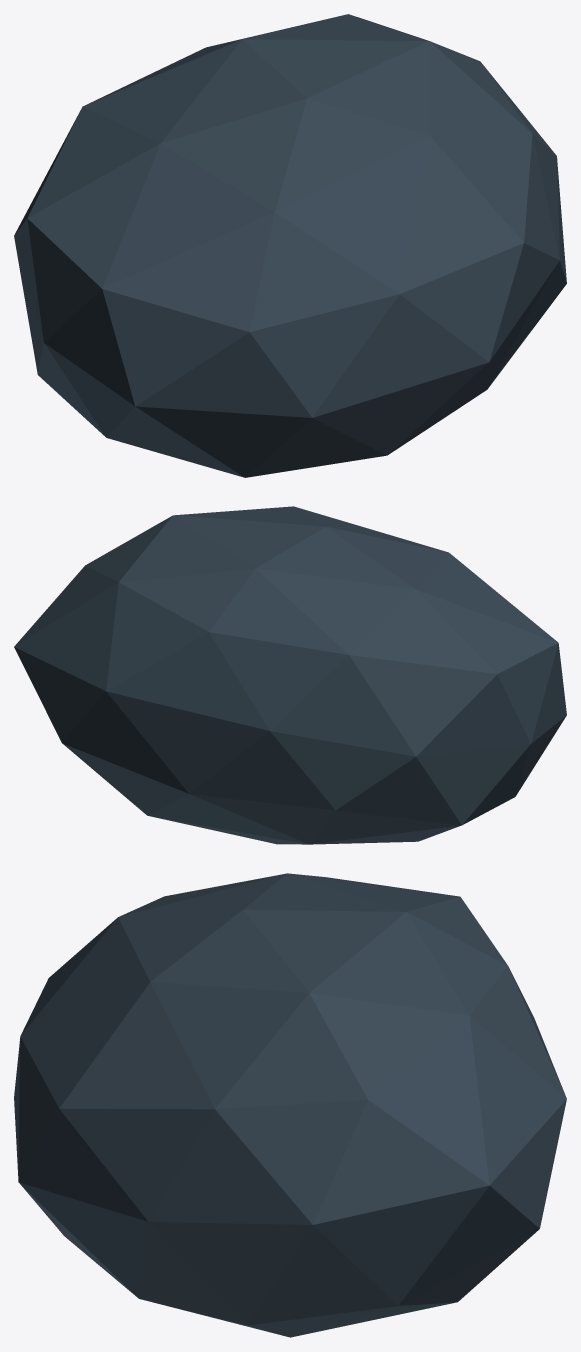
File: ENV_Stone_A.fbx
The picture shows the model from 3 angles, top to bottom: view 1: azimuth 30°, elevation 25°; view 2: azimuth 150°, elevation 25°; view 3: azimuth 270°, elevation 25°; orthographic projection. The views are drawn at different scales.
Parts seen in each view (by area): view 1: ENV_Stone_A; view 2: ENV_Stone_A; view 3: ENV_Stone_A.
Boxes of the visible parts, x1,y1,x2,y2 form: ENV_Stone_A: [14, 14, 566, 477]; ENV_Stone_A: [14, 506, 566, 844]; ENV_Stone_A: [14, 873, 566, 1337].
Bounding box in the file's own units: 0.6327 × 0.4 × 0.5148.
